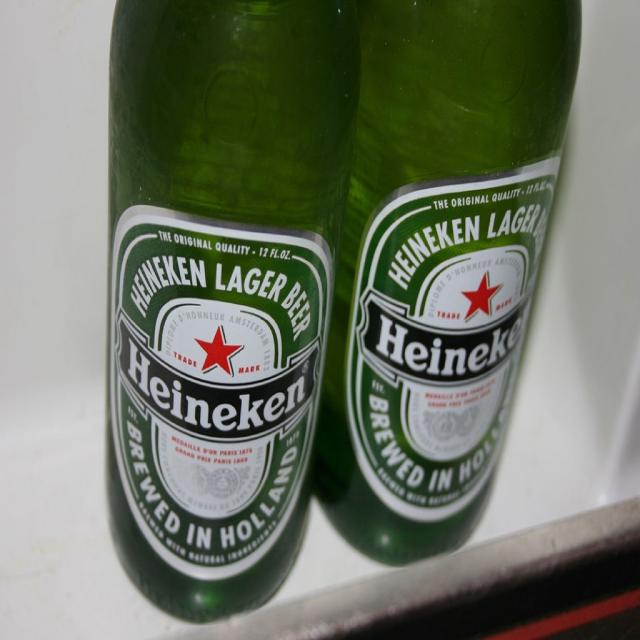heineken: (112, 204, 335, 583), (343, 157, 561, 524)
